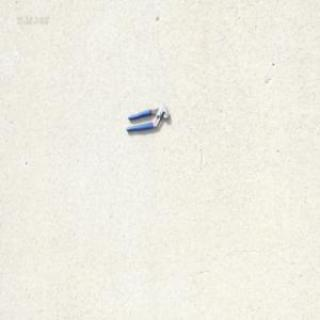Pliertrack_idkeyframe: (124, 103, 169, 133)
